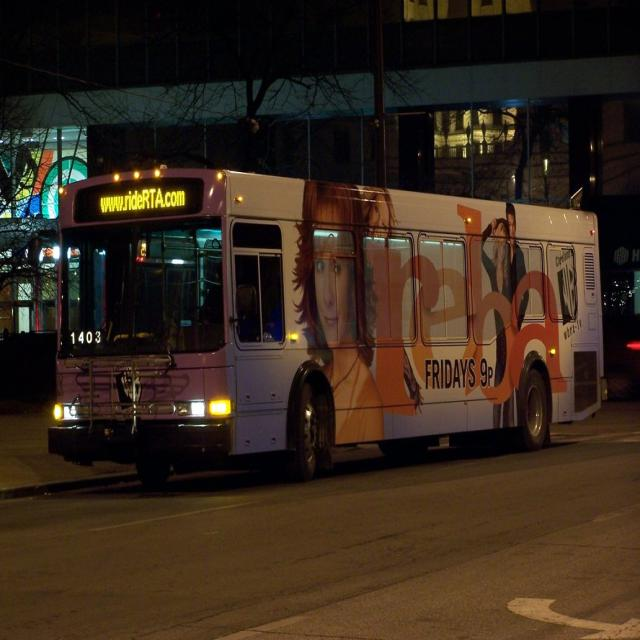Bus: (62, 141, 611, 516)
